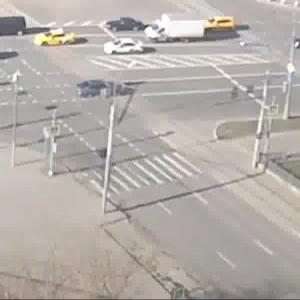car: (156, 14, 203, 45), (74, 75, 126, 101), (97, 35, 151, 60), (36, 27, 87, 52), (112, 14, 149, 35), (207, 14, 239, 33), (145, 26, 164, 42)
